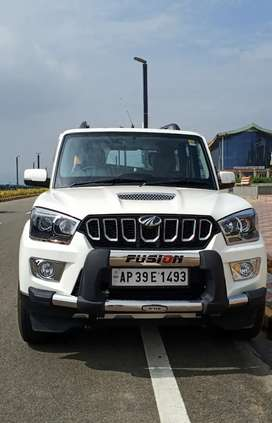AP39E1493: (111, 267, 188, 284)
